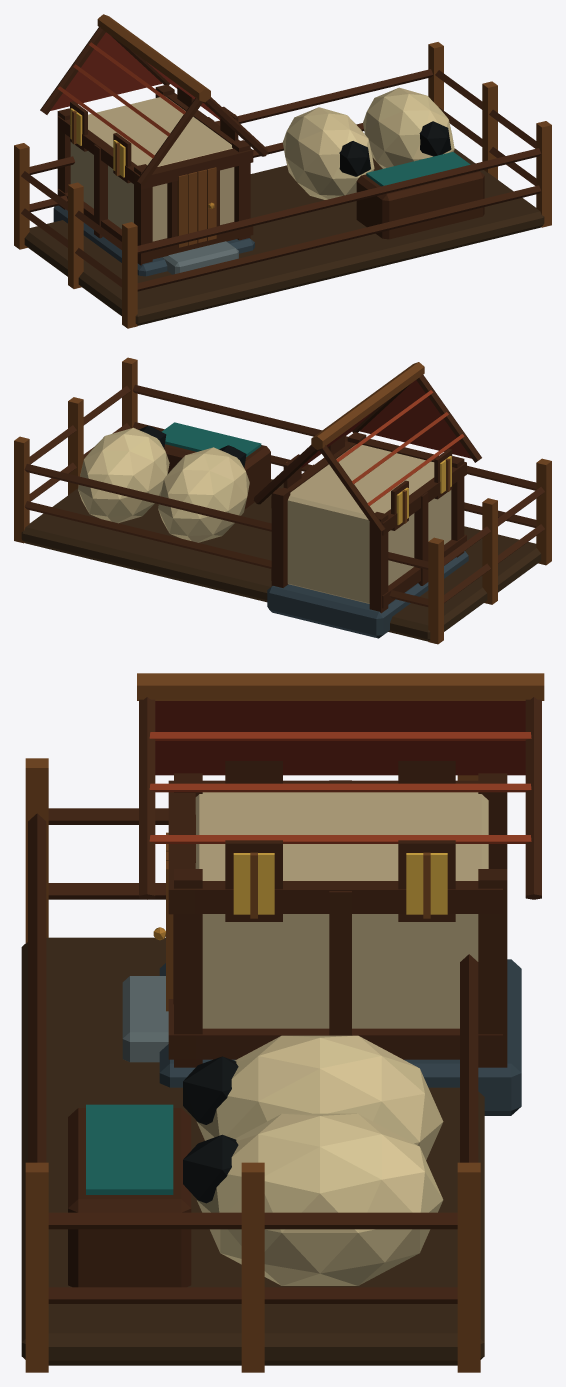
The model's file is LargeTest.fbx.
The picture shows the model from 3 angles, top to bottom: view 1: azimuth 30°, elevation 25°; view 2: azimuth 150°, elevation 25°; view 3: azimuth 270°, elevation 25°; orthographic projection. The views are drawn at different scales.
Parts seen in each view (by area): view 1: LargeTest_Mesh, Livestock shed_Mesh; view 2: LargeTest_Mesh, Livestock shed_Mesh; view 3: LargeTest_Mesh, Livestock shed_Mesh.
Boxes of the visible parts, x1,y1,x2,y2 form: LargeTest_Mesh: (14, 42, 551, 328); Livestock shed_Mesh: (40, 14, 268, 276); LargeTest_Mesh: (14, 357, 551, 644); Livestock shed_Mesh: (253, 362, 481, 638); LargeTest_Mesh: (21, 758, 484, 1372); Livestock shed_Mesh: (122, 673, 544, 1115).
Bounding box in the file's own units: 1.91 × 0.8376 × 1.02.
